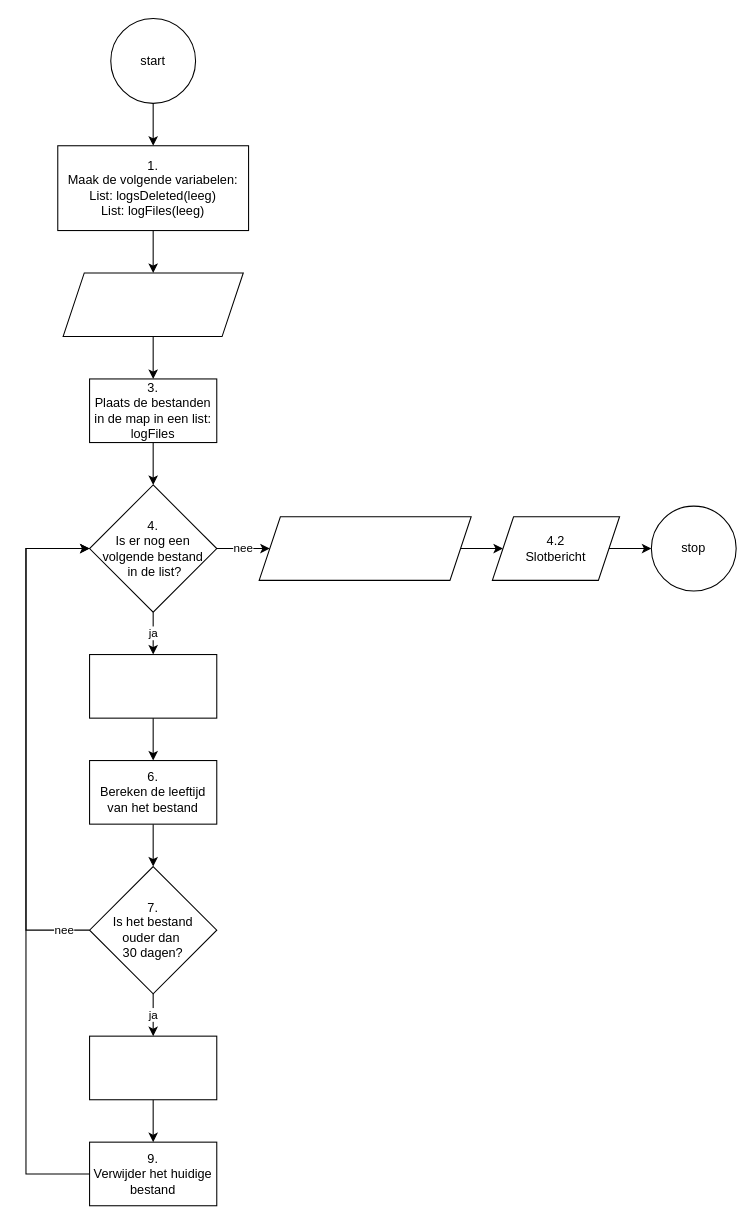
Image size: 755x1224. Some labels were removed from this diagram. The centre of each missing label's shape, as x and y in pixels:
"2. Haal de bestanden uit de map C:\Logs en sla ze op in de list logFies" belongs at pixel 152 304.
"4.1 Output: De volgende bestanden zijn verwijderd: logsDeleted" belongs at pixel 364 548.
"5. Ga naar het eerstvolgende bestand in de list" belongs at pixel 153 685.
"8. Sla bestandsnaam op in list: logsDeleted" belongs at pixel 153 1067.
